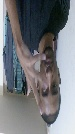hand: (12, 39, 49, 119)
